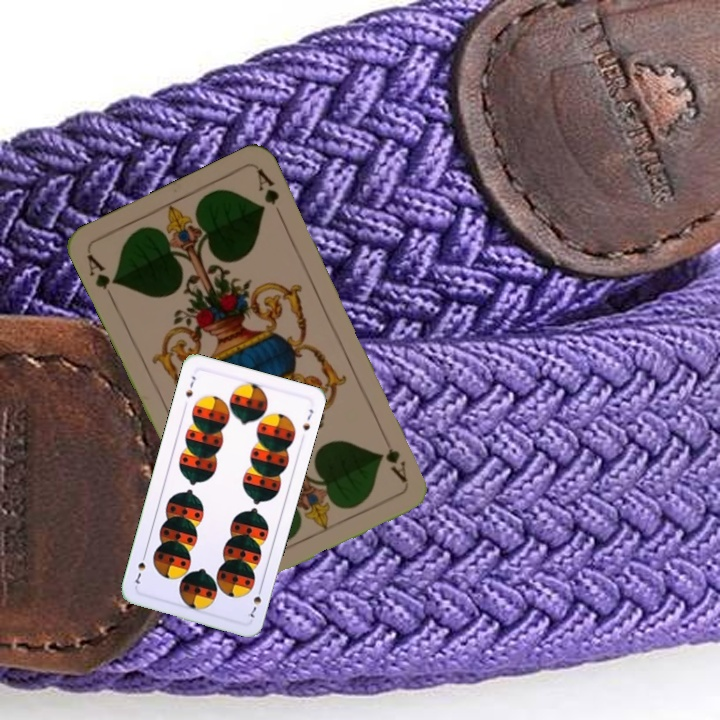GA: (82, 250, 120, 305), (377, 429, 410, 486)
S7: (243, 582, 265, 622), (181, 372, 198, 400)
